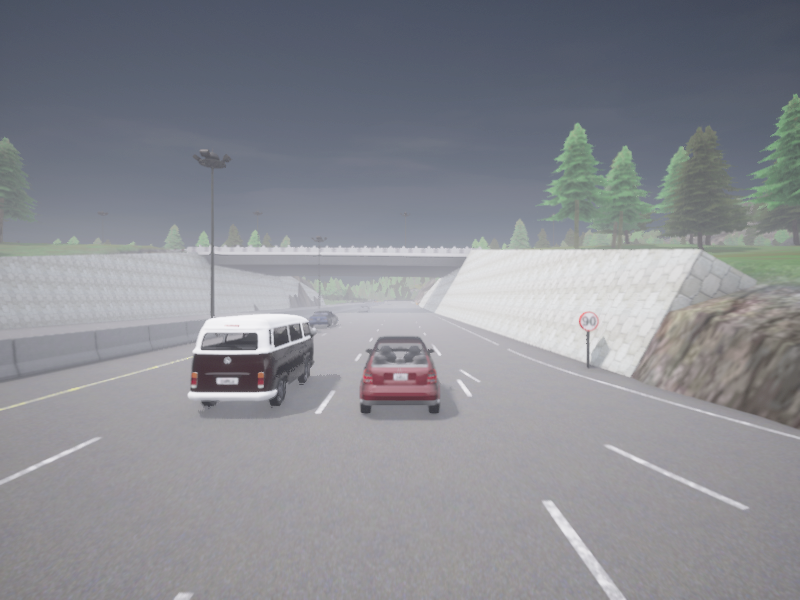vehicle: (188, 314, 316, 407), (359, 335, 440, 413), (309, 311, 337, 326), (359, 305, 369, 311)
